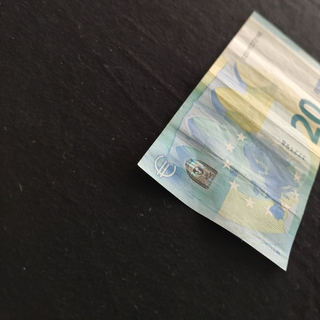20EUROBack: (137, 10, 320, 271)
